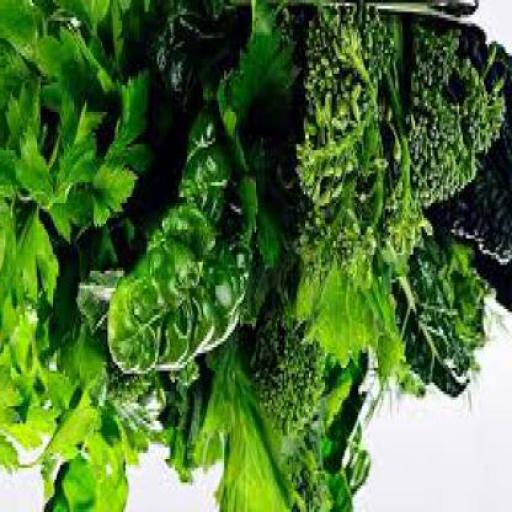biodegradable: (1, 3, 154, 477), (108, 2, 300, 376), (167, 327, 357, 511), (296, 3, 402, 291), (396, 15, 510, 262), (423, 18, 511, 316), (388, 227, 506, 412), (1, 383, 144, 511), (297, 265, 425, 403), (252, 280, 334, 438), (304, 356, 372, 509), (108, 370, 168, 453)
